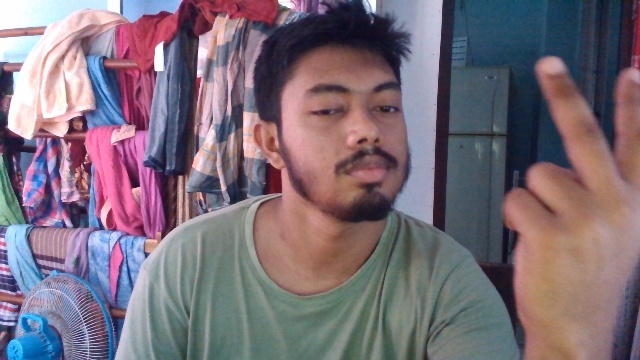thanks: (505, 60, 640, 346)
